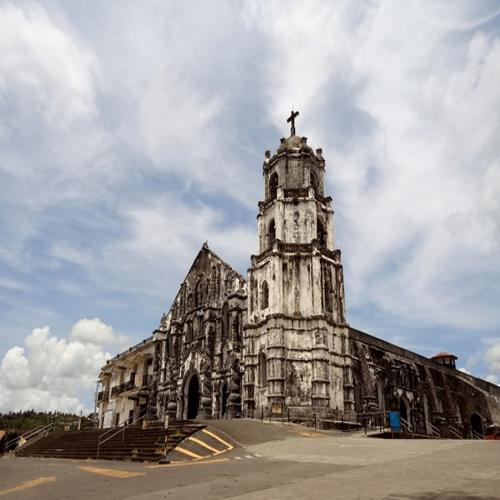Daraga Church: (160, 90, 346, 423)
